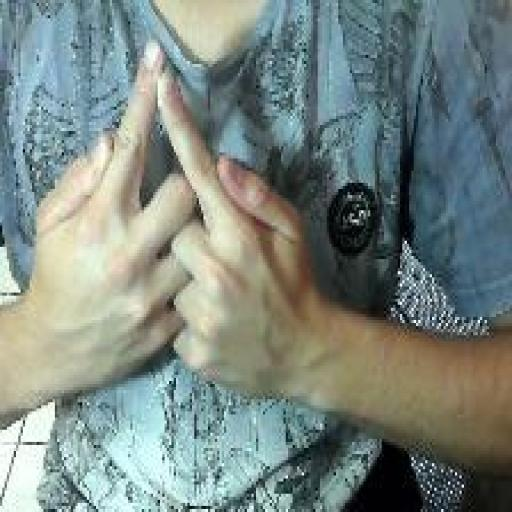Uma -horse-: (28, 35, 313, 410)
